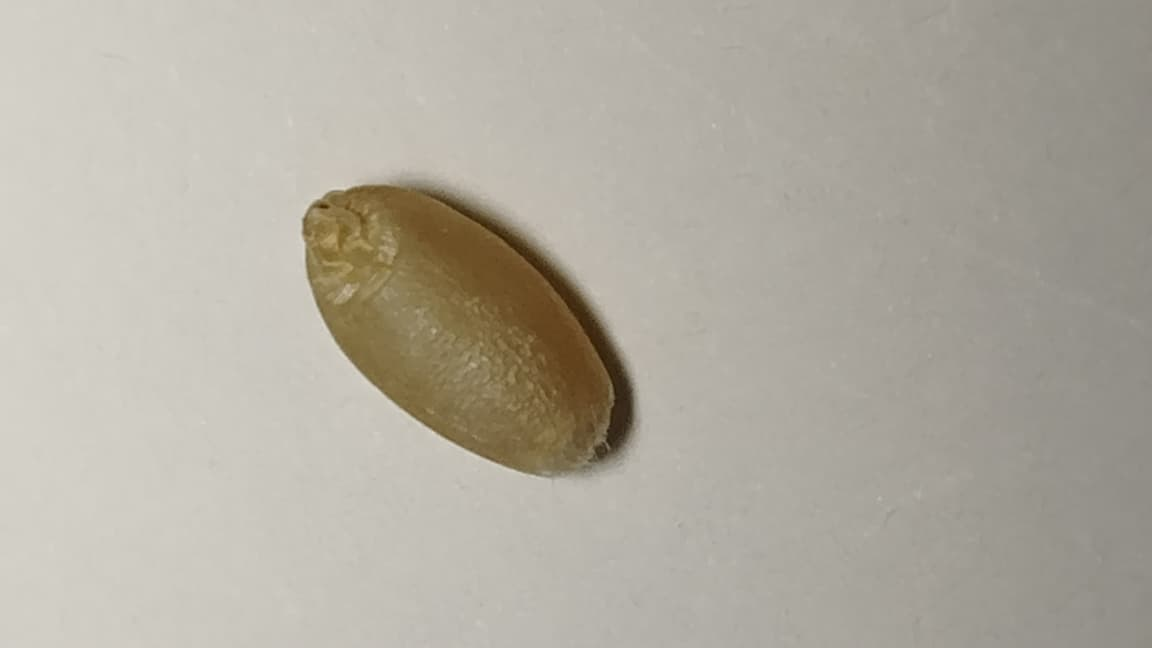healthy: (305, 186, 613, 473)
